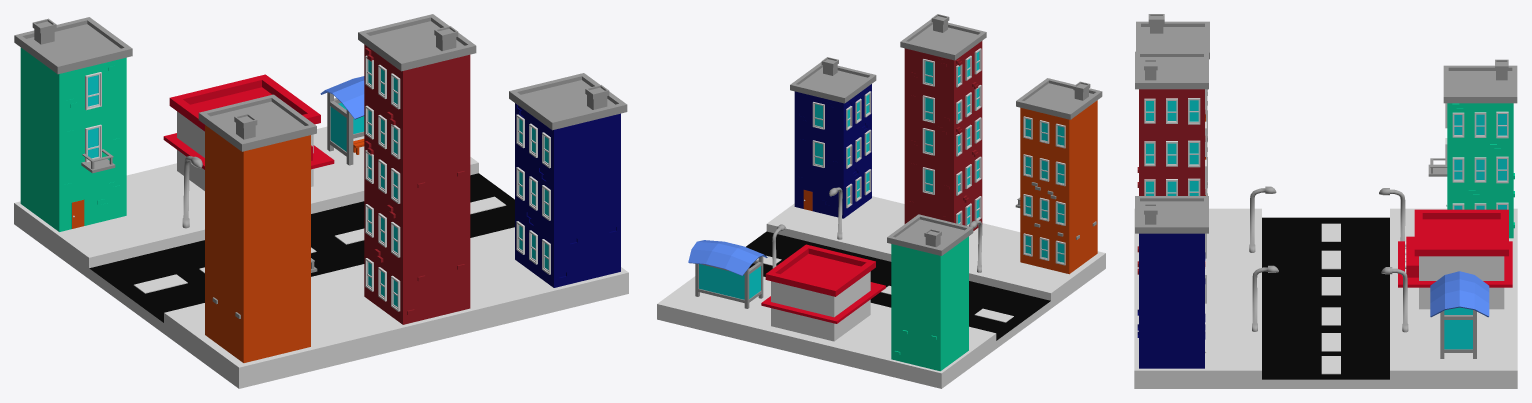
The model's file is mapa.fbx.
3 views of the same model, side by side, from view 1: azimuth 30°, elevation 25°; view 2: azimuth 150°, elevation 25°; view 3: azimuth 270°, elevation 25° (orthographic). The views are drawn at different scales.
Visible parts, largest first — view 1: Cube.009; view 2: Cube.009; view 3: Cube.009.
Boxes of the visible parts, x1,y1,x2,y2 form: Cube.009: (14,14,628,388); Cube.009: (657,14,1105,388); Cube.009: (1134,14,1517,388).
Size of the model in its own units: 200 by 146 by 200.
